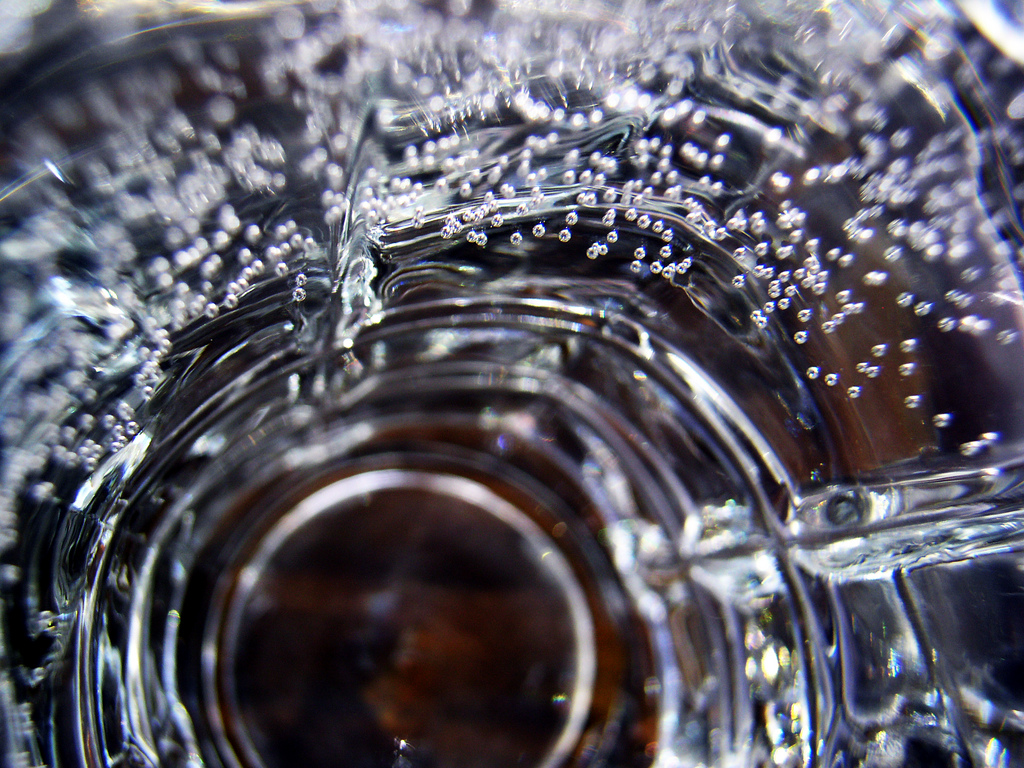glass of water: (19, 32, 975, 765)
